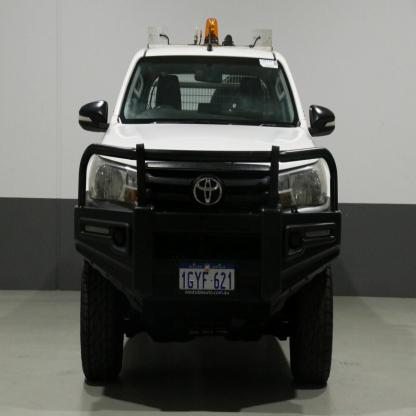light_vehicle: (67, 20, 347, 400)
